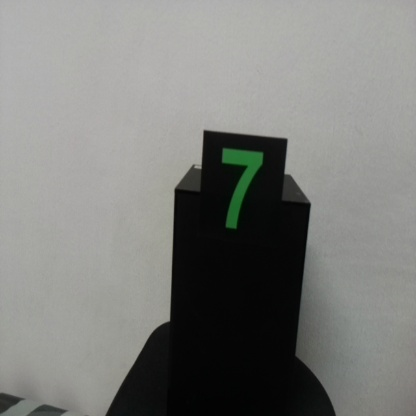id_7: (203, 128, 286, 267)
